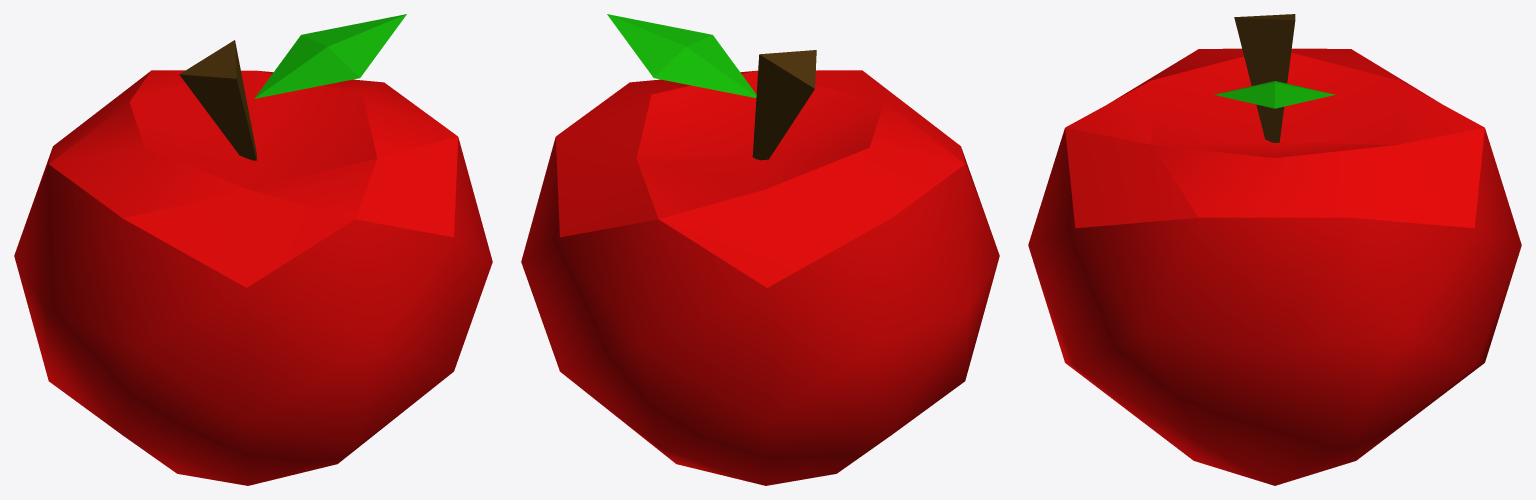
File: lowpoly-apple.fbx
3 renders of one model, left to right at view 1: azimuth 30°, elevation 25°; view 2: azimuth 150°, elevation 25°; view 3: azimuth 270°, elevation 25°, orthographic. The views are drawn at different scales.
Visible parts, largest first — view 1: Fruit, Leaf, Stalk; view 2: Fruit, Leaf, Stalk; view 3: Fruit, Stalk, Leaf.
Part boxes in pixels (x1,y1,x2,y2): Fruit: (14, 70, 492, 485); Leaf: (254, 14, 406, 98); Stalk: (179, 40, 256, 160); Fruit: (521, 70, 999, 485); Leaf: (607, 14, 756, 97); Stalk: (752, 50, 816, 160); Fruit: (1028, 48, 1521, 485); Stalk: (1234, 14, 1295, 142); Leaf: (1214, 81, 1335, 108).
Size of the model in its own units: 1 by 0.9454 by 1.
